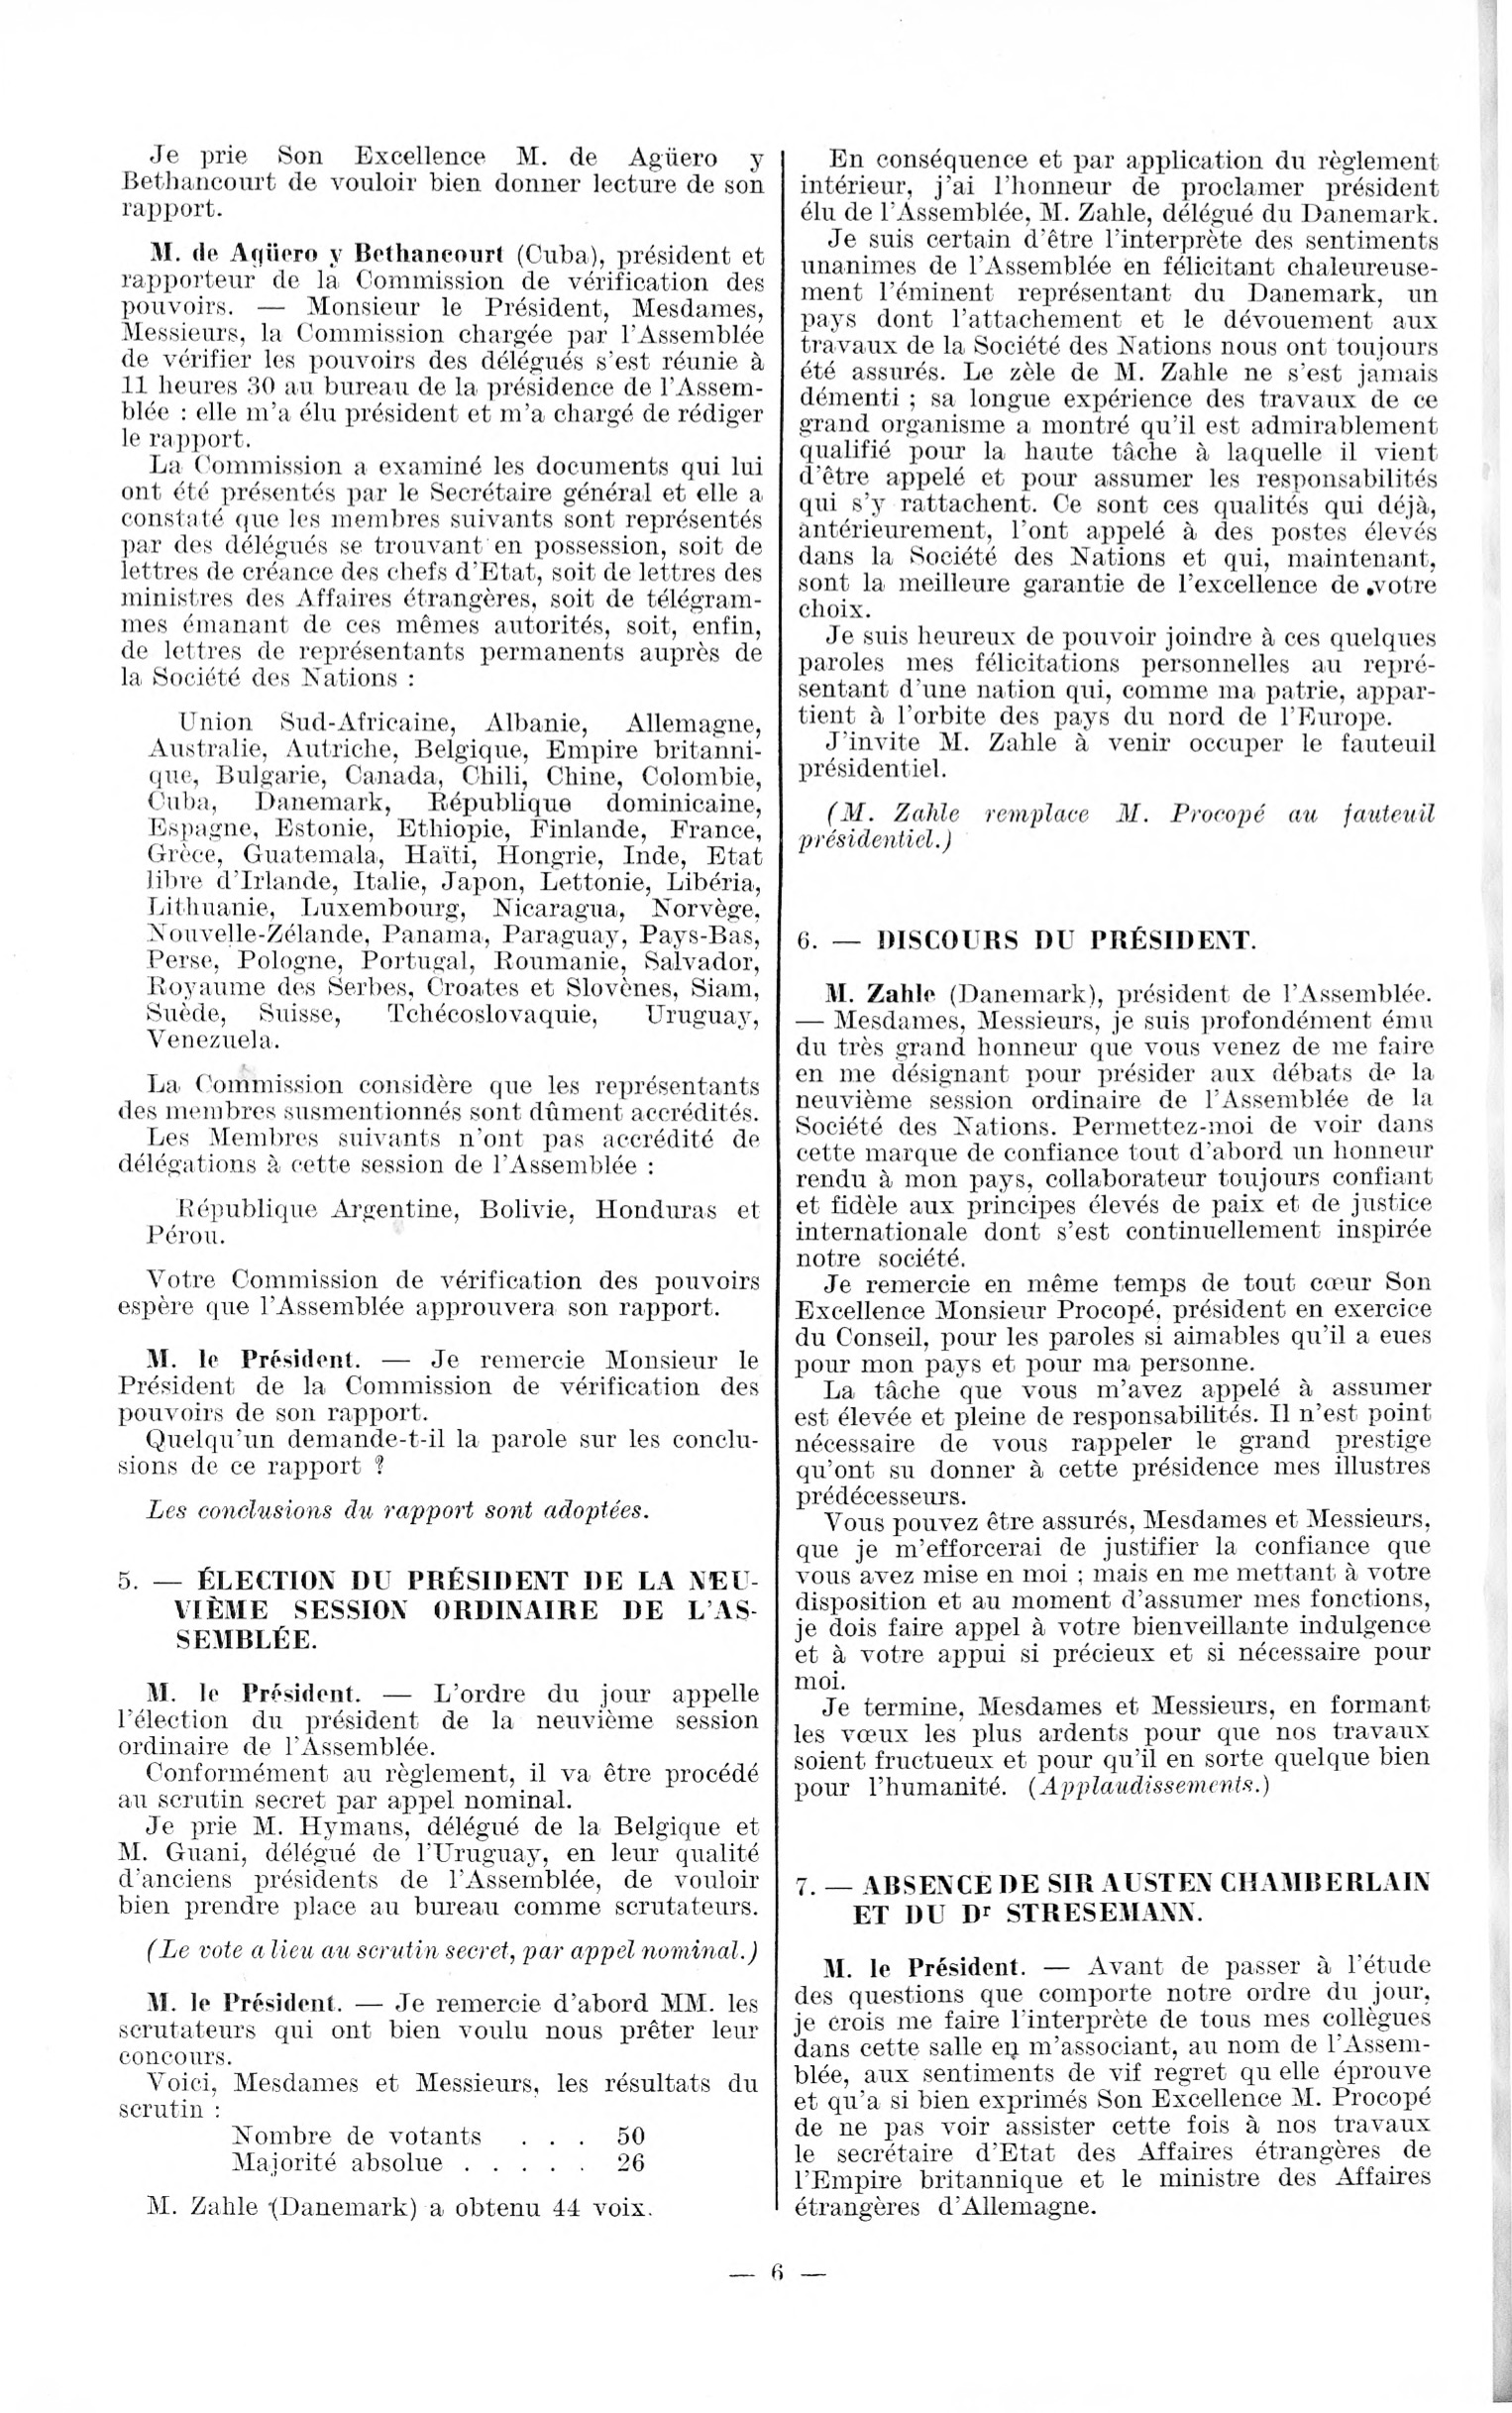MainZone-Head: (106, 1557, 761, 1660), (788, 1862, 1441, 1933), (791, 917, 1267, 961)
MainZone-P: (795, 223, 1451, 623), (134, 705, 768, 1062), (791, 976, 1443, 1270), (788, 1950, 1444, 2228), (113, 449, 771, 695), (113, 234, 771, 452), (789, 1507, 1440, 1692), (790, 1375, 1443, 1508), (789, 1691, 1440, 1806), (108, 1812, 767, 1922), (792, 621, 1448, 729), (788, 1268, 1442, 1375), (113, 134, 771, 226), (108, 1675, 766, 1760), (108, 1340, 768, 1424), (795, 142, 1445, 227), (111, 1985, 764, 2068), (793, 797, 1451, 866), (108, 1261, 767, 1328), (110, 1191, 764, 1257), (107, 1423, 765, 1484), (108, 1124, 762, 1184), (108, 1067, 761, 1125), (792, 729, 1448, 786), (102, 1759, 766, 1814), (111, 2068, 756, 2122), (108, 1929, 770, 1973), (129, 2188, 657, 2229), (120, 1493, 669, 1529)
NumberingZone: (720, 2254, 835, 2292)
TableZone: (216, 2120, 662, 2183)
